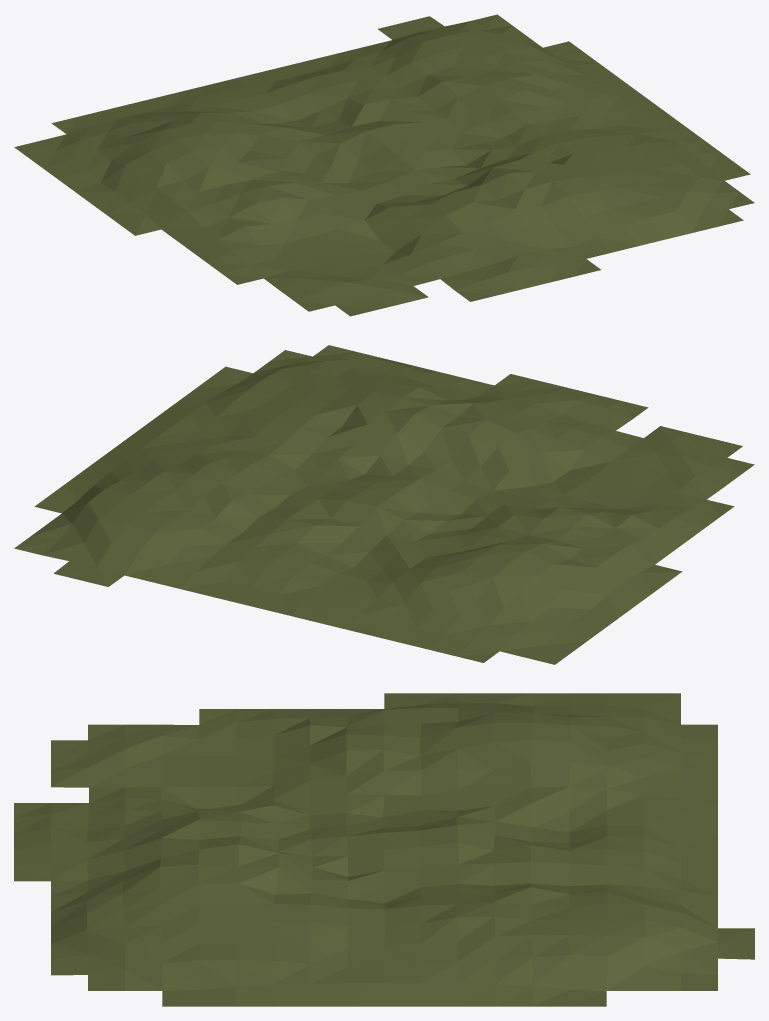
The model's file is SM_Env_GroundMounds_08.gltf.
The picture shows the model from 3 angles, top to bottom: view 1: azimuth 30°, elevation 25°; view 2: azimuth 150°, elevation 25°; view 3: azimuth 270°, elevation 25°; orthographic projection. The views are drawn at different scales.
Visible parts, largest first — view 1: SM_Env_GroundMounds_08; view 2: SM_Env_GroundMounds_08; view 3: SM_Env_GroundMounds_08.
Part boxes in pixels (x1,y1,x2,y2): SM_Env_GroundMounds_08: [14, 14, 754, 316]; SM_Env_GroundMounds_08: [14, 345, 754, 664]; SM_Env_GroundMounds_08: [14, 693, 754, 1006].
Size of the model in its own units: 8.14 by 0.5148 by 8.14.
Materials: 1 (1 with a texture image).
